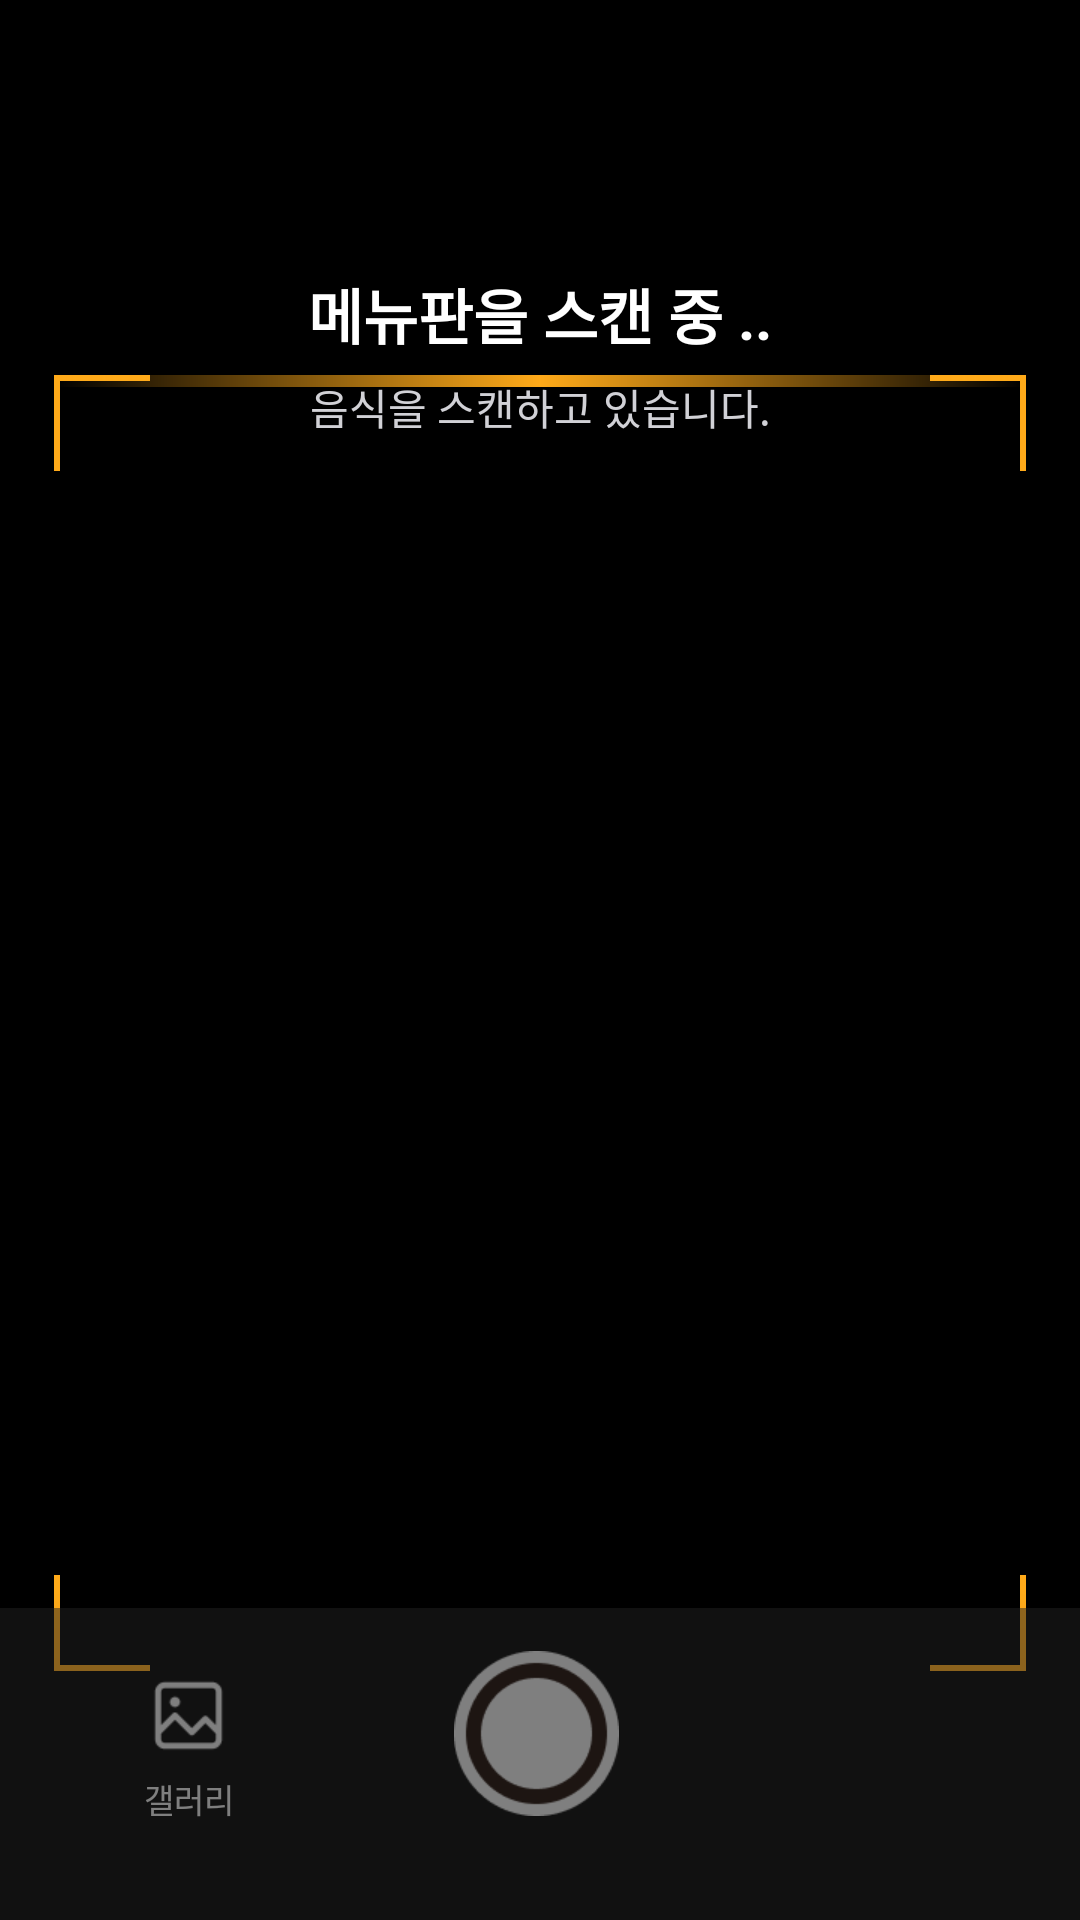

Named icons in this screenshot (1080px×1920px) and their bounding boxes, detection(x1, y1, x2, y2):
촬영: detection(454, 1651, 619, 1816)
